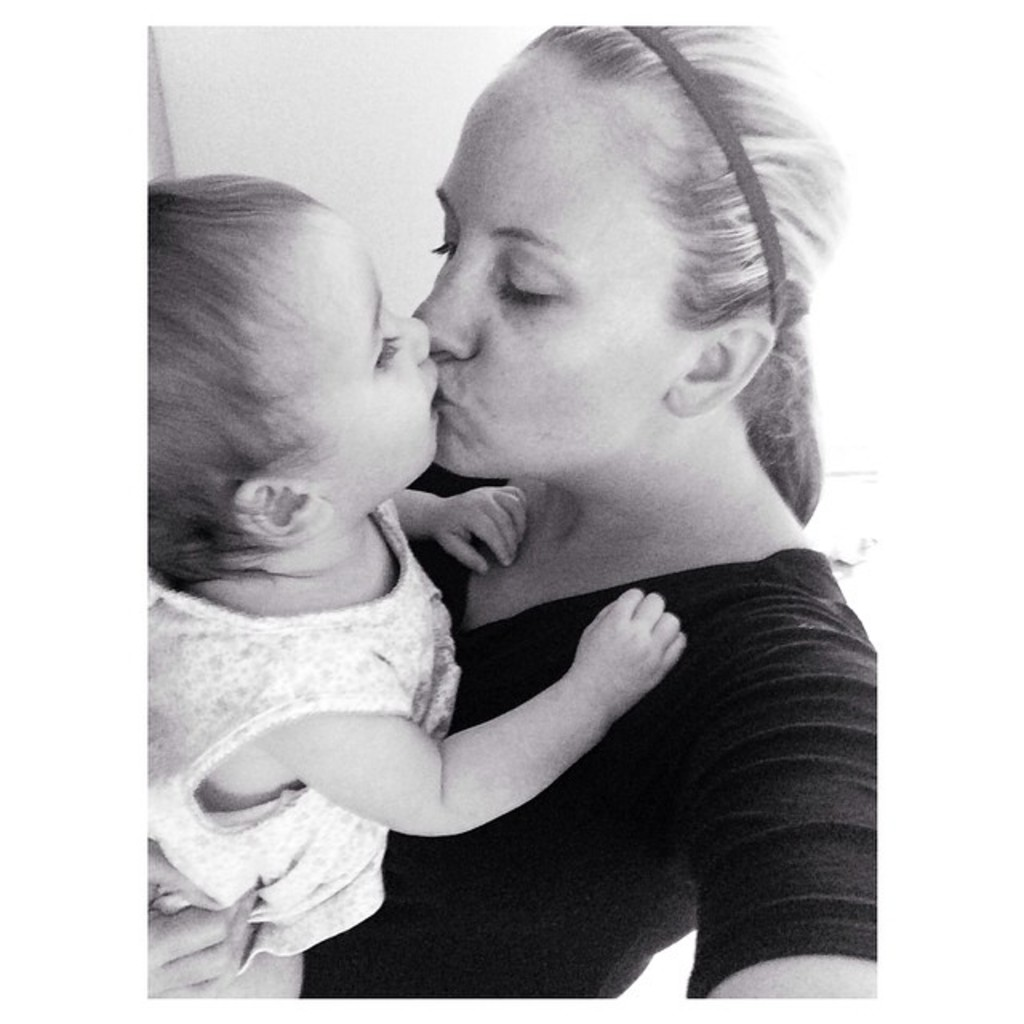Human_hand: (146, 844, 303, 1008), (573, 590, 690, 718), (433, 488, 529, 571)
